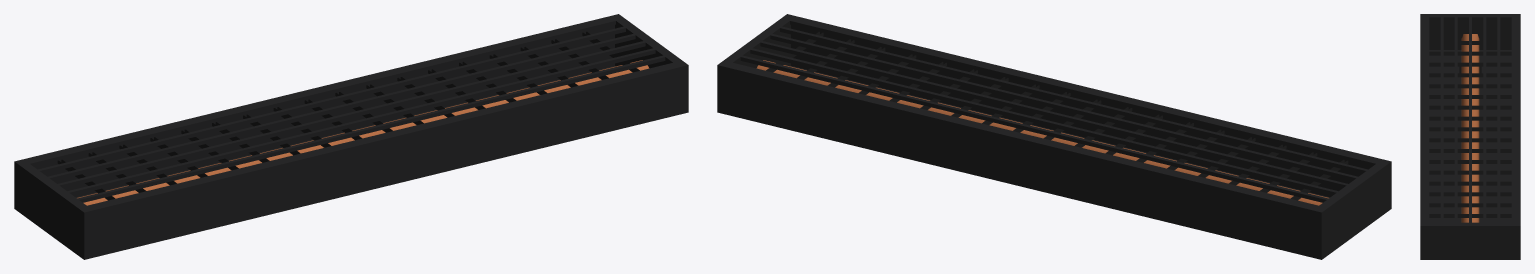
Rendered from parametric-steam_grating-crew.glb.
3 renders of one model, left to right at view 1: azimuth 30°, elevation 25°; view 2: azimuth 150°, elevation 25°; view 3: azimuth 270°, elevation 25°, orthographic. The views are drawn at different scales.
Parts seen in each view (by area): view 1: parametric-steam_grating-crew; view 2: parametric-steam_grating-crew; view 3: parametric-steam_grating-crew.
Part boxes in pixels (x1=…): parametric-steam_grating-crew: x1=14, y1=14, x2=688, y2=259; parametric-steam_grating-crew: x1=717, y1=14, x2=1391, y2=259; parametric-steam_grating-crew: x1=1420, y1=14, x2=1520, y2=259.
Size of the model in its own units: 2 by 0.15 by 0.4.
